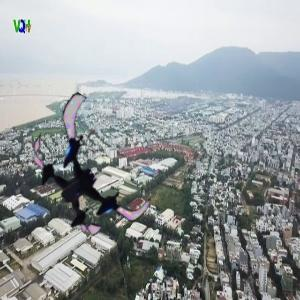drone: (22, 111, 159, 248)
